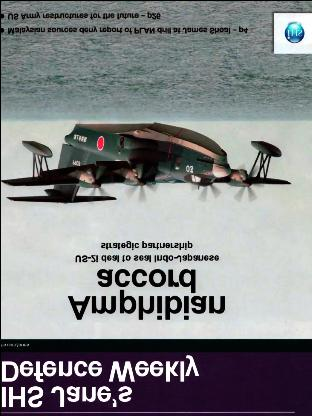Tu95: (1, 119, 291, 204)
